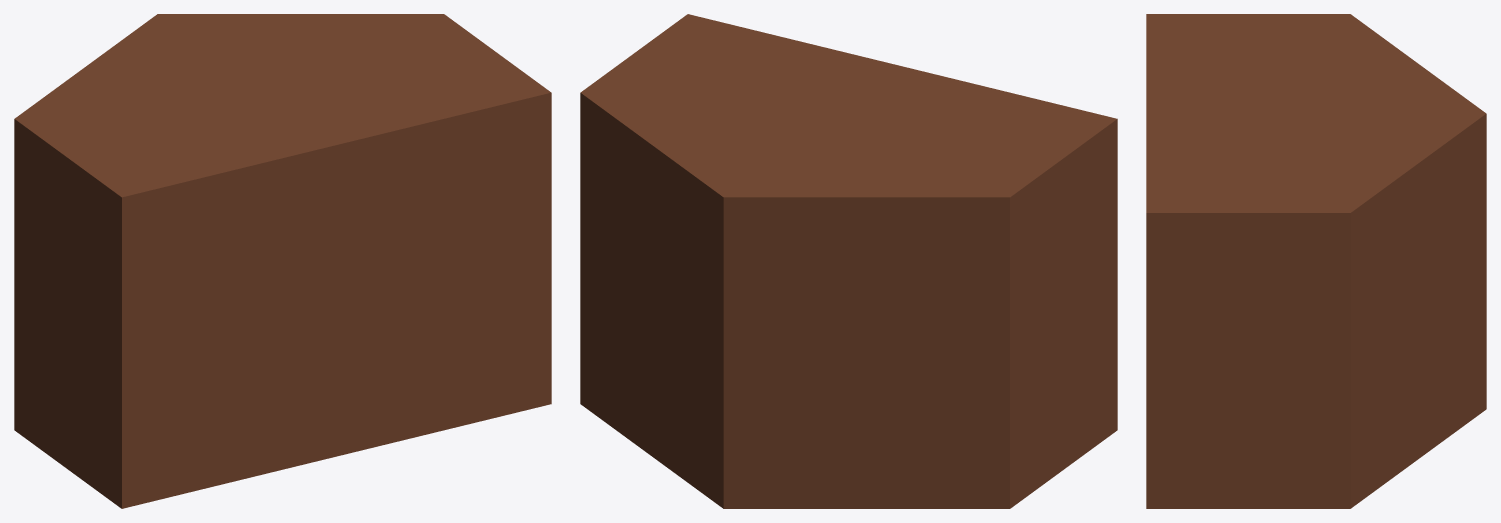
Rendered from _wooden_wall_t_2.glb.
3 views of the same model, side by side, from view 1: azimuth 30°, elevation 25°; view 2: azimuth 150°, elevation 25°; view 3: azimuth 270°, elevation 25° (orthographic). The views are drawn at different scales.
Visible parts, largest first — view 1: WoodenWallHalfFillTall; view 2: WoodenWallHalfFillTall; view 3: WoodenWallHalfFillTall.
Boxes of the visible parts, x1,y1,x2,y2 form: WoodenWallHalfFillTall: (14, 14, 551, 508); WoodenWallHalfFillTall: (580, 14, 1117, 508); WoodenWallHalfFillTall: (1146, 14, 1486, 508).
Bounding box in the file's own units: 1.73 × 1.2 × 1.25.
Materials: 1 (1 with a texture image).
